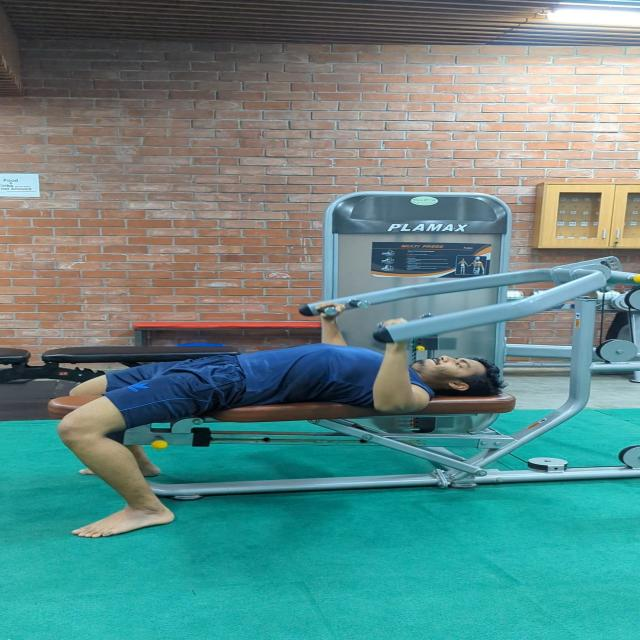Normal_BrenchPress: (39, 290, 524, 532)
